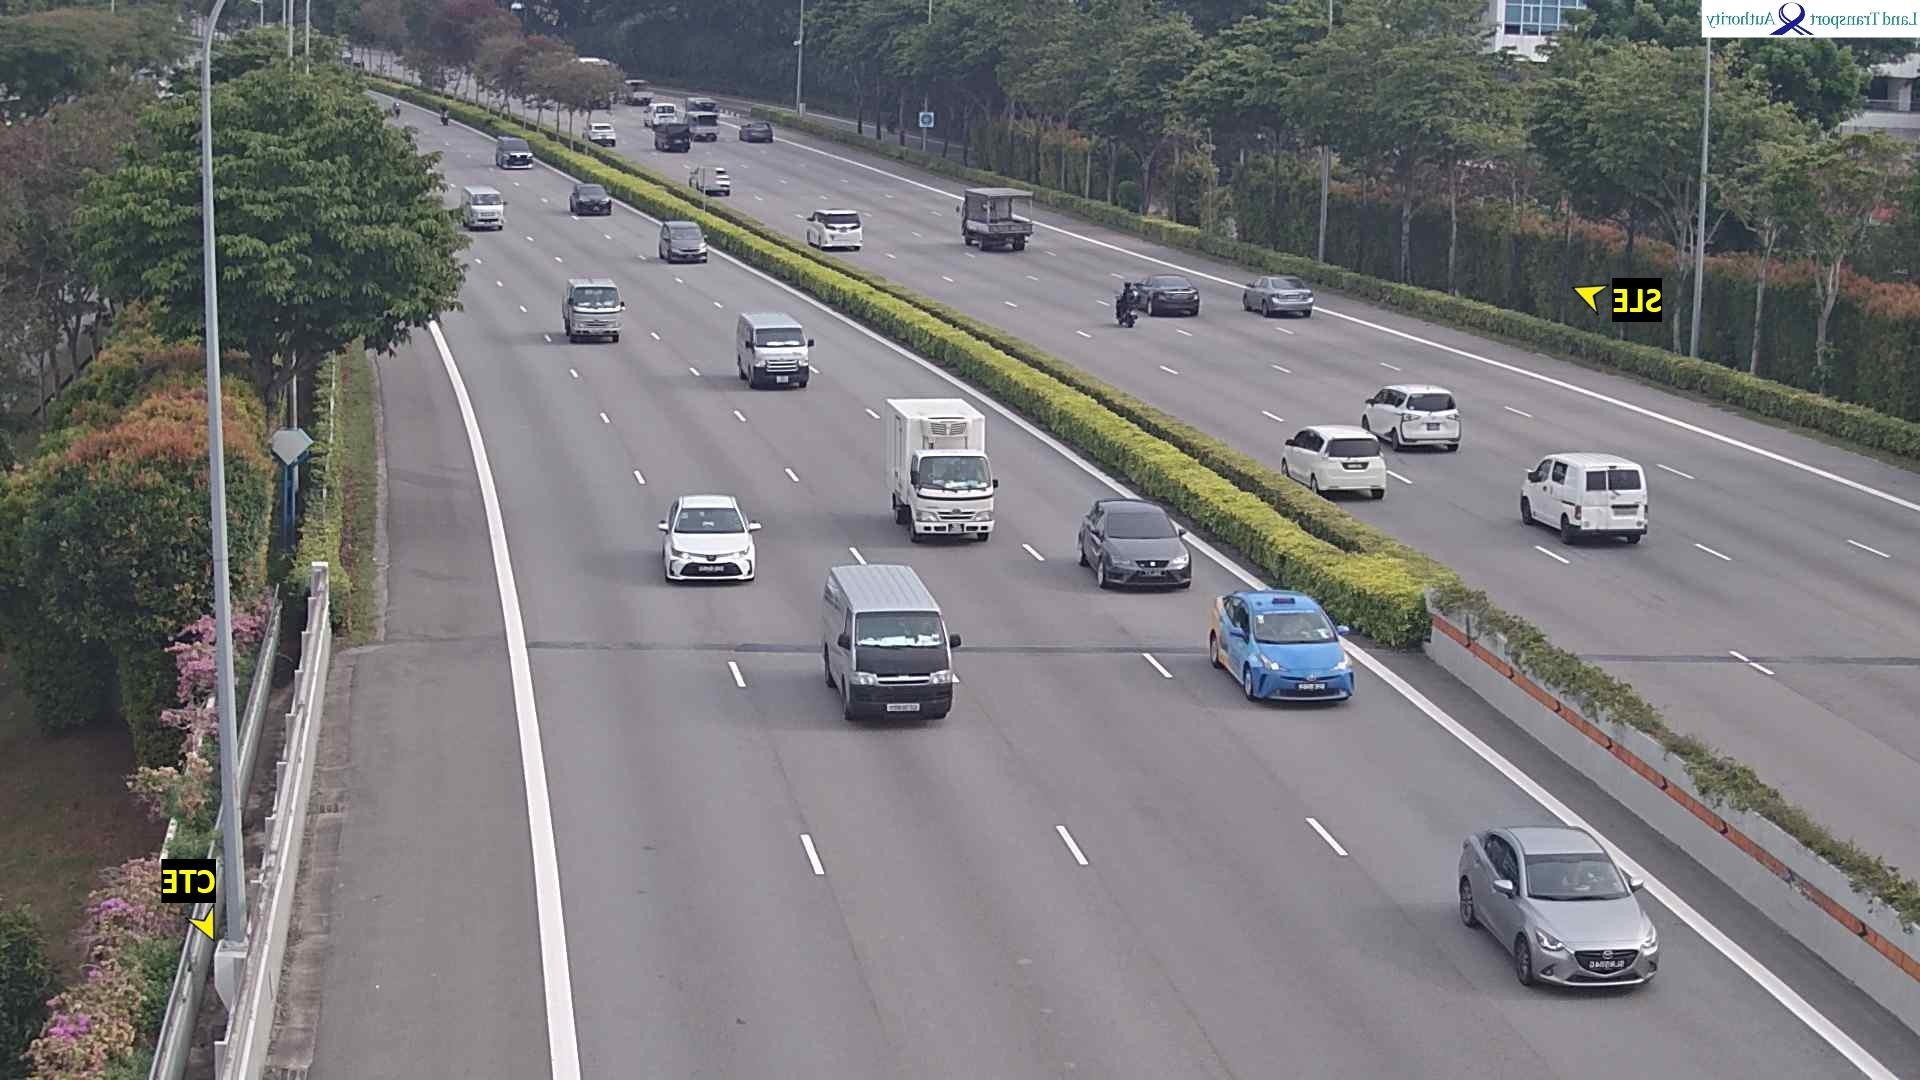cars: (1458, 824, 1662, 990), (822, 560, 963, 723), (1211, 588, 1356, 704), (1520, 450, 1650, 545), (1077, 497, 1193, 589), (659, 492, 764, 583), (1280, 425, 1389, 498), (1362, 382, 1462, 452), (736, 310, 815, 389), (562, 276, 626, 342), (1125, 274, 1201, 316), (1244, 273, 1315, 316), (807, 208, 865, 251), (659, 218, 709, 262), (462, 185, 506, 229), (570, 182, 613, 215), (688, 164, 732, 196), (496, 135, 535, 167), (655, 121, 694, 152), (644, 102, 679, 128), (688, 113, 720, 141), (584, 120, 617, 146), (740, 117, 774, 142), (687, 96, 720, 116)
motorcycle: (1116, 281, 1139, 328), (435, 100, 451, 127), (390, 98, 402, 121)
trucks: (885, 396, 1000, 543), (961, 186, 1035, 251), (617, 78, 657, 105)
